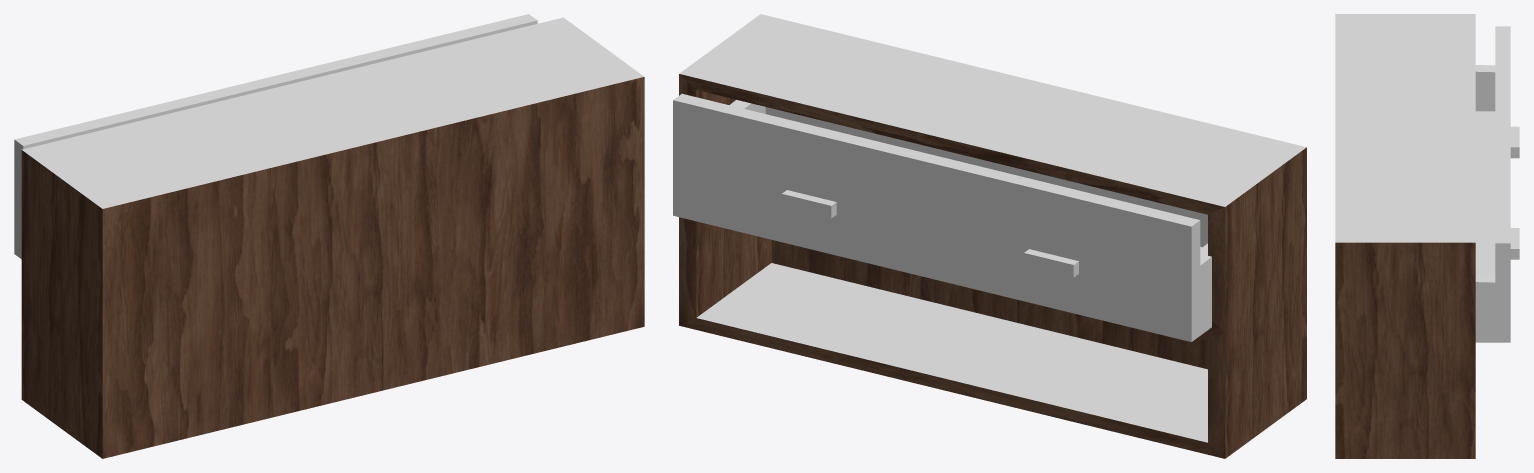
Rendered from shelf_1.fbx.
3 views of the same model, side by side, from view 1: azimuth 30°, elevation 25°; view 2: azimuth 150°, elevation 25°; view 3: azimuth 270°, elevation 25° (orthographic). The views are drawn at different scales.
Parts seen in each view (by area): view 1: Shelf_6, Shelf_6_Drawer; view 2: Shelf_6, Shelf_6_Drawer; view 3: Shelf_6, Shelf_6_Drawer.
Part boxes in pixels (bbox=[...]): Shelf_6: bbox=[21, 17, 644, 458]; Shelf_6_Drawer: bbox=[14, 14, 537, 258]; Shelf_6: bbox=[679, 14, 1306, 458]; Shelf_6_Drawer: bbox=[673, 93, 1211, 341]; Shelf_6: bbox=[1335, 14, 1475, 458]; Shelf_6_Drawer: bbox=[1475, 26, 1519, 342].
Bounding box in the file's own units: 200 × 88.15 × 68.1.
